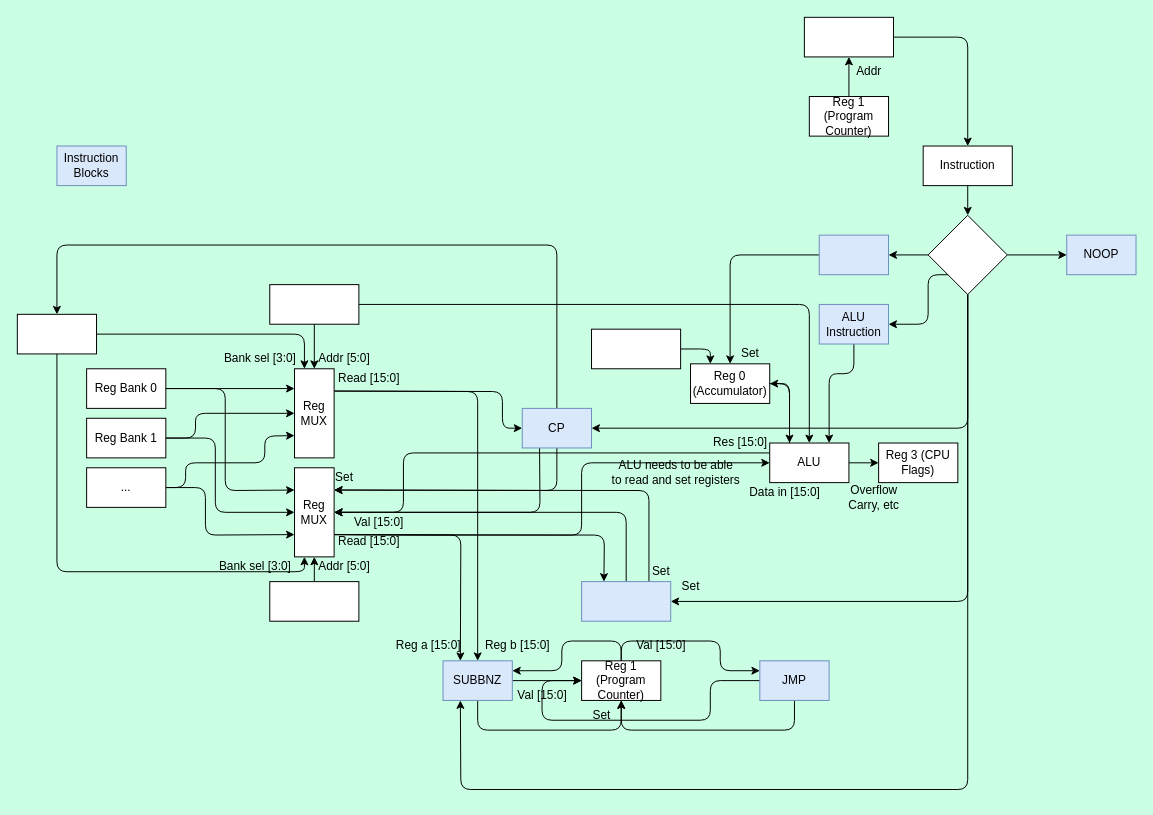
Some shapes in this 1153 by 815 pixel diagram are drawn without their labels. Here are the shapes that lost their labels. From the top down, the centre of each, then its label:
the point at 848,36: Instruction memory
the point at 853,254: IMM
the point at 967,254: Decoder
the point at 314,304: Instruction[11:6]
the point at 56,333: Reg 2 (Bank Sel)
the point at 636,348: Instruction[11:0]
the point at 314,601: Instruction[5:0]
the point at 626,601: INV
